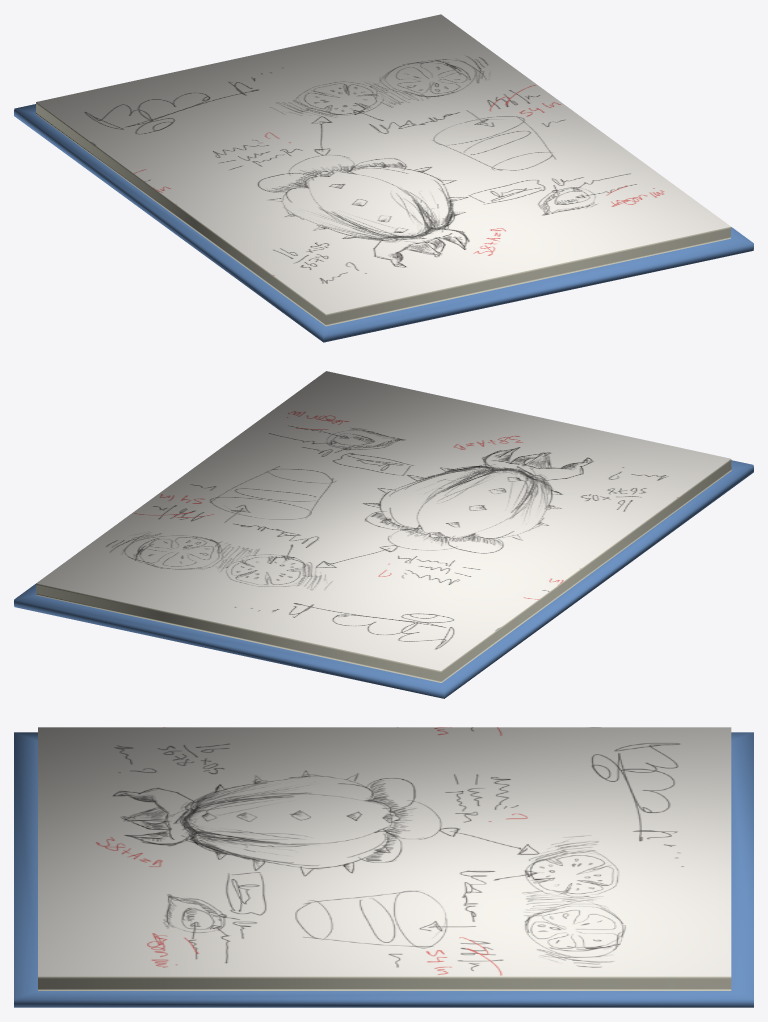
The model's file is LibretaSketchLid.fbx.
3 renders of one model, top to bottom at view 1: azimuth 30°, elevation 25°; view 2: azimuth 150°, elevation 25°; view 3: azimuth 270°, elevation 25°, orthographic. The views are drawn at different scales.
Visible parts, largest first — view 1: LibretaSketchLid; view 2: LibretaSketchLid; view 3: LibretaSketchLid.
Part boxes in pixels (<box>): LibretaSketchLid: <box>14,14,753,342</box>; LibretaSketchLid: <box>14,371,753,698</box>; LibretaSketchLid: <box>14,727,753,1007</box>.
Size of the model in its own units: 25.37 by 1.74 by 31.6.
